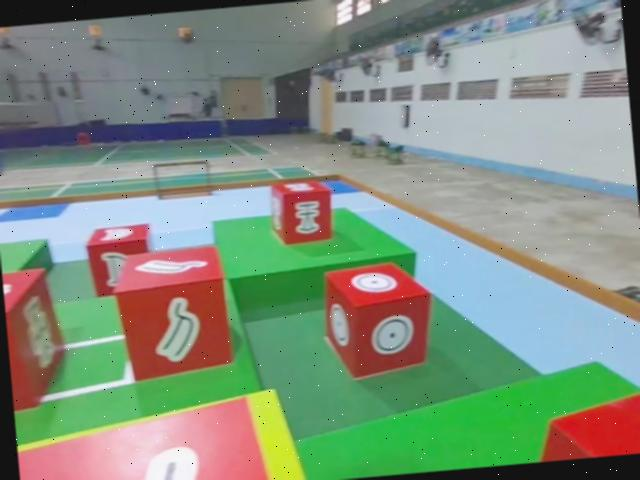R2 Real: (107, 241, 236, 384), (316, 254, 440, 384), (1, 263, 72, 416), (83, 219, 159, 300), (266, 172, 338, 247)
